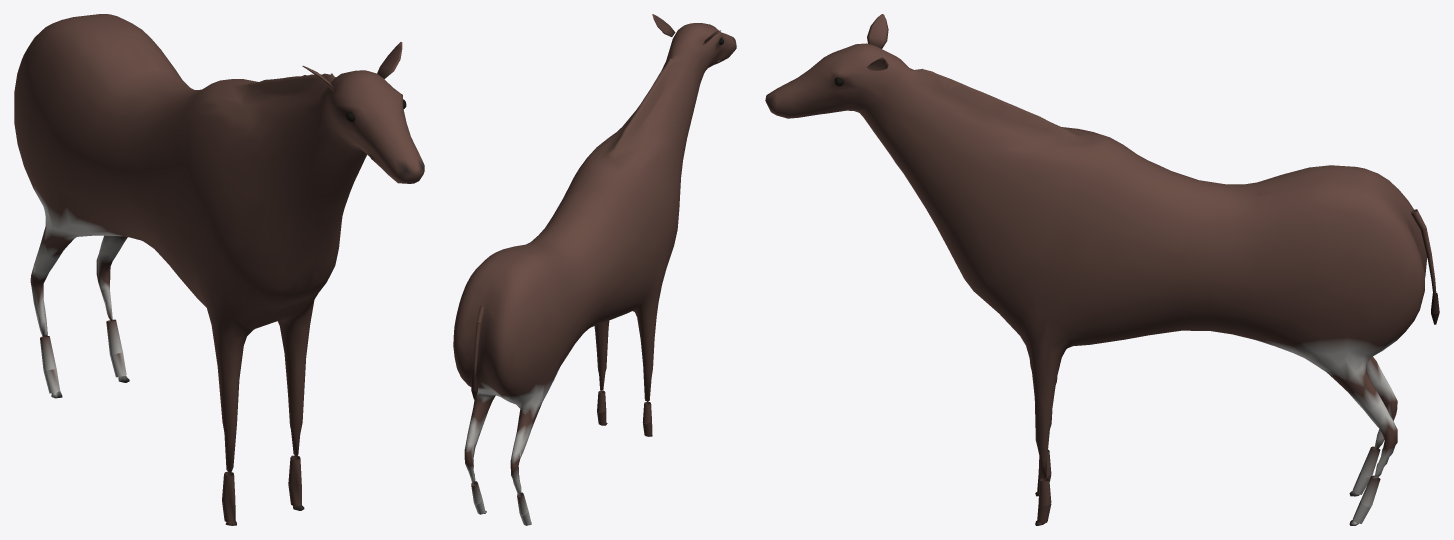
The model's file is okapi.glb.
3 views of the same model, side by side, from view 1: azimuth 30°, elevation 25°; view 2: azimuth 150°, elevation 25°; view 3: azimuth 270°, elevation 25° (orthographic). The views are drawn at different scales.
Parts seen in each view (by area): view 1: lack; view 2: lack; view 3: lack.
Boxes of the visible parts, box(x1,y1,x2,y2) form: lack: box(14, 14, 424, 525); lack: box(453, 14, 736, 525); lack: box(765, 14, 1439, 525).
Bounding box in the file's own units: 0.5237 × 2.19 × 2.82.
